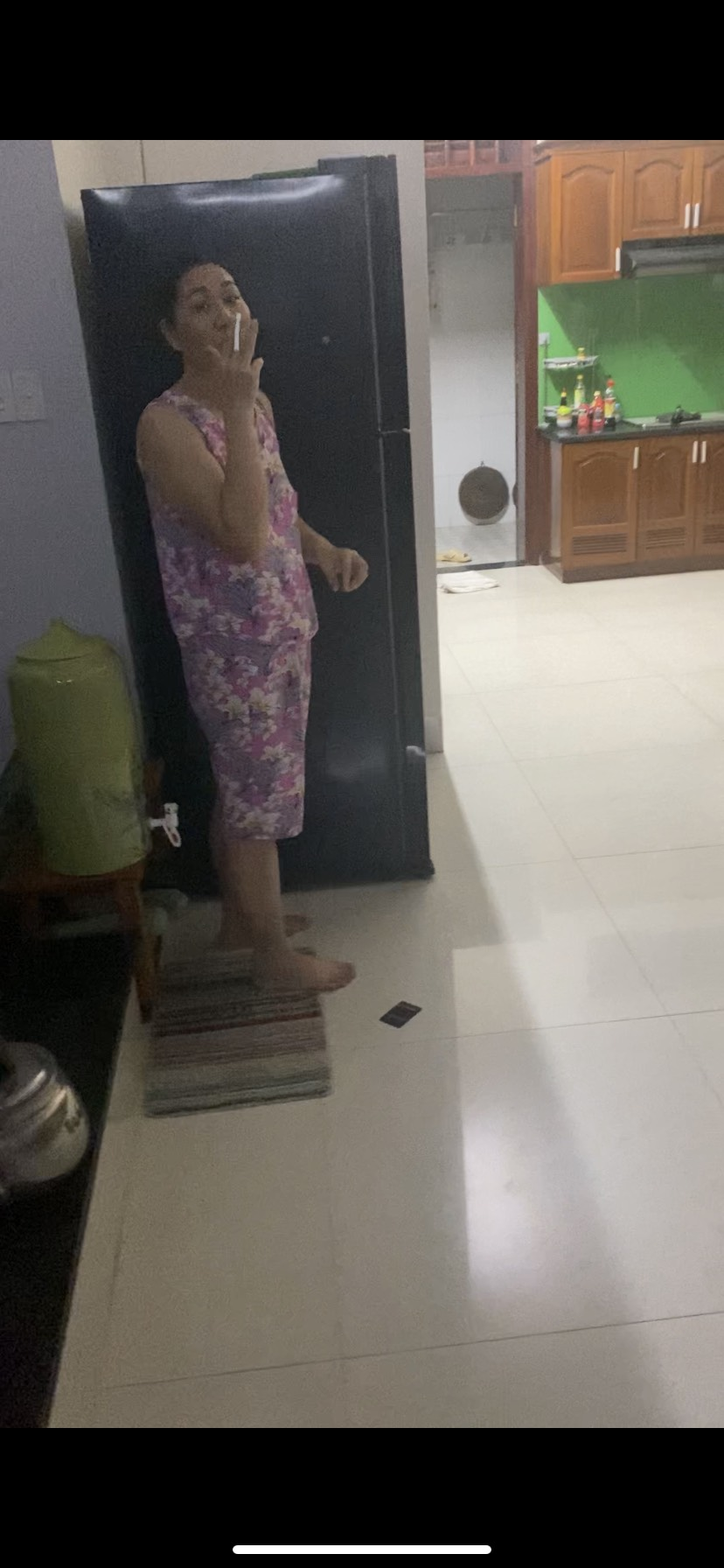cigarette: (228, 308, 246, 358)
person: (117, 248, 377, 1013)
